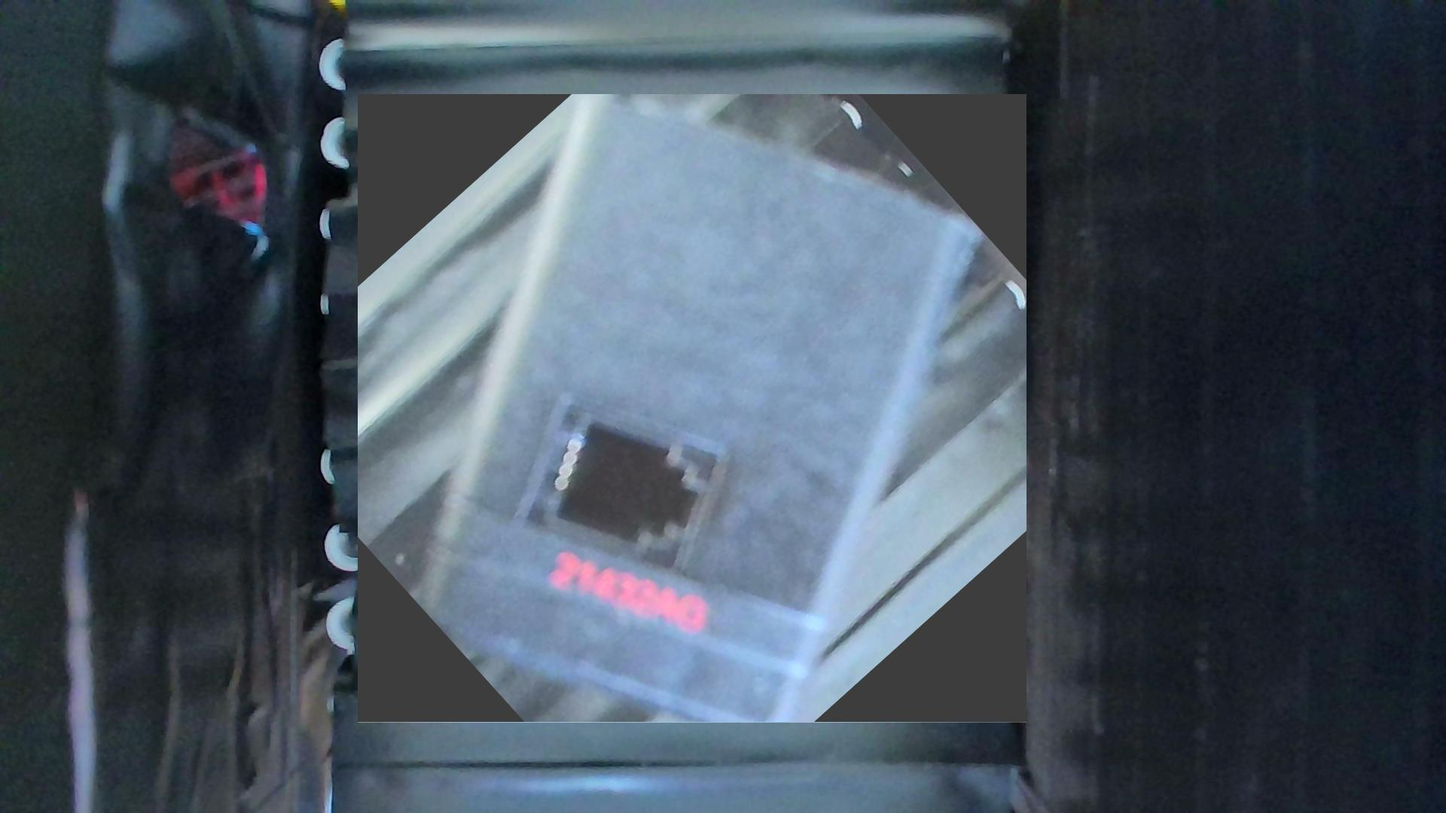motor: (358, 95, 1027, 723)
